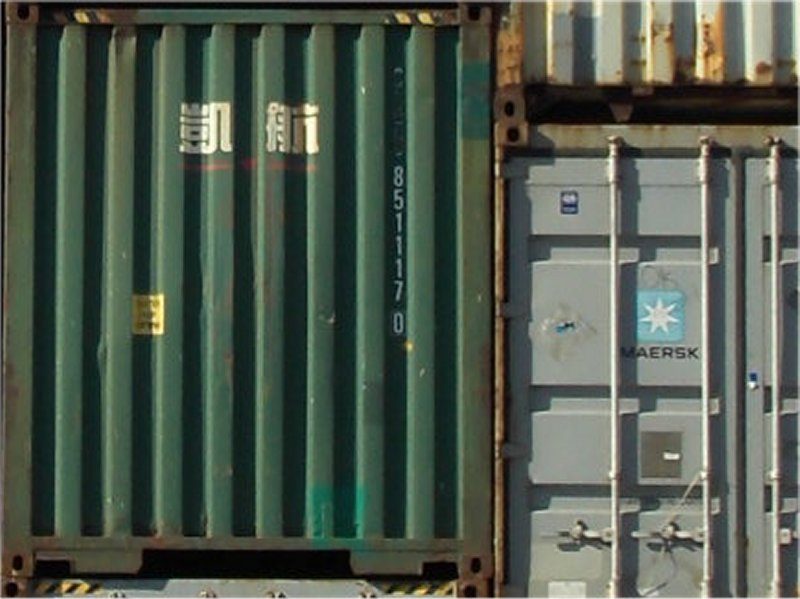container_door: (489, 113, 799, 599)
container_no_door: (8, 2, 489, 577)
